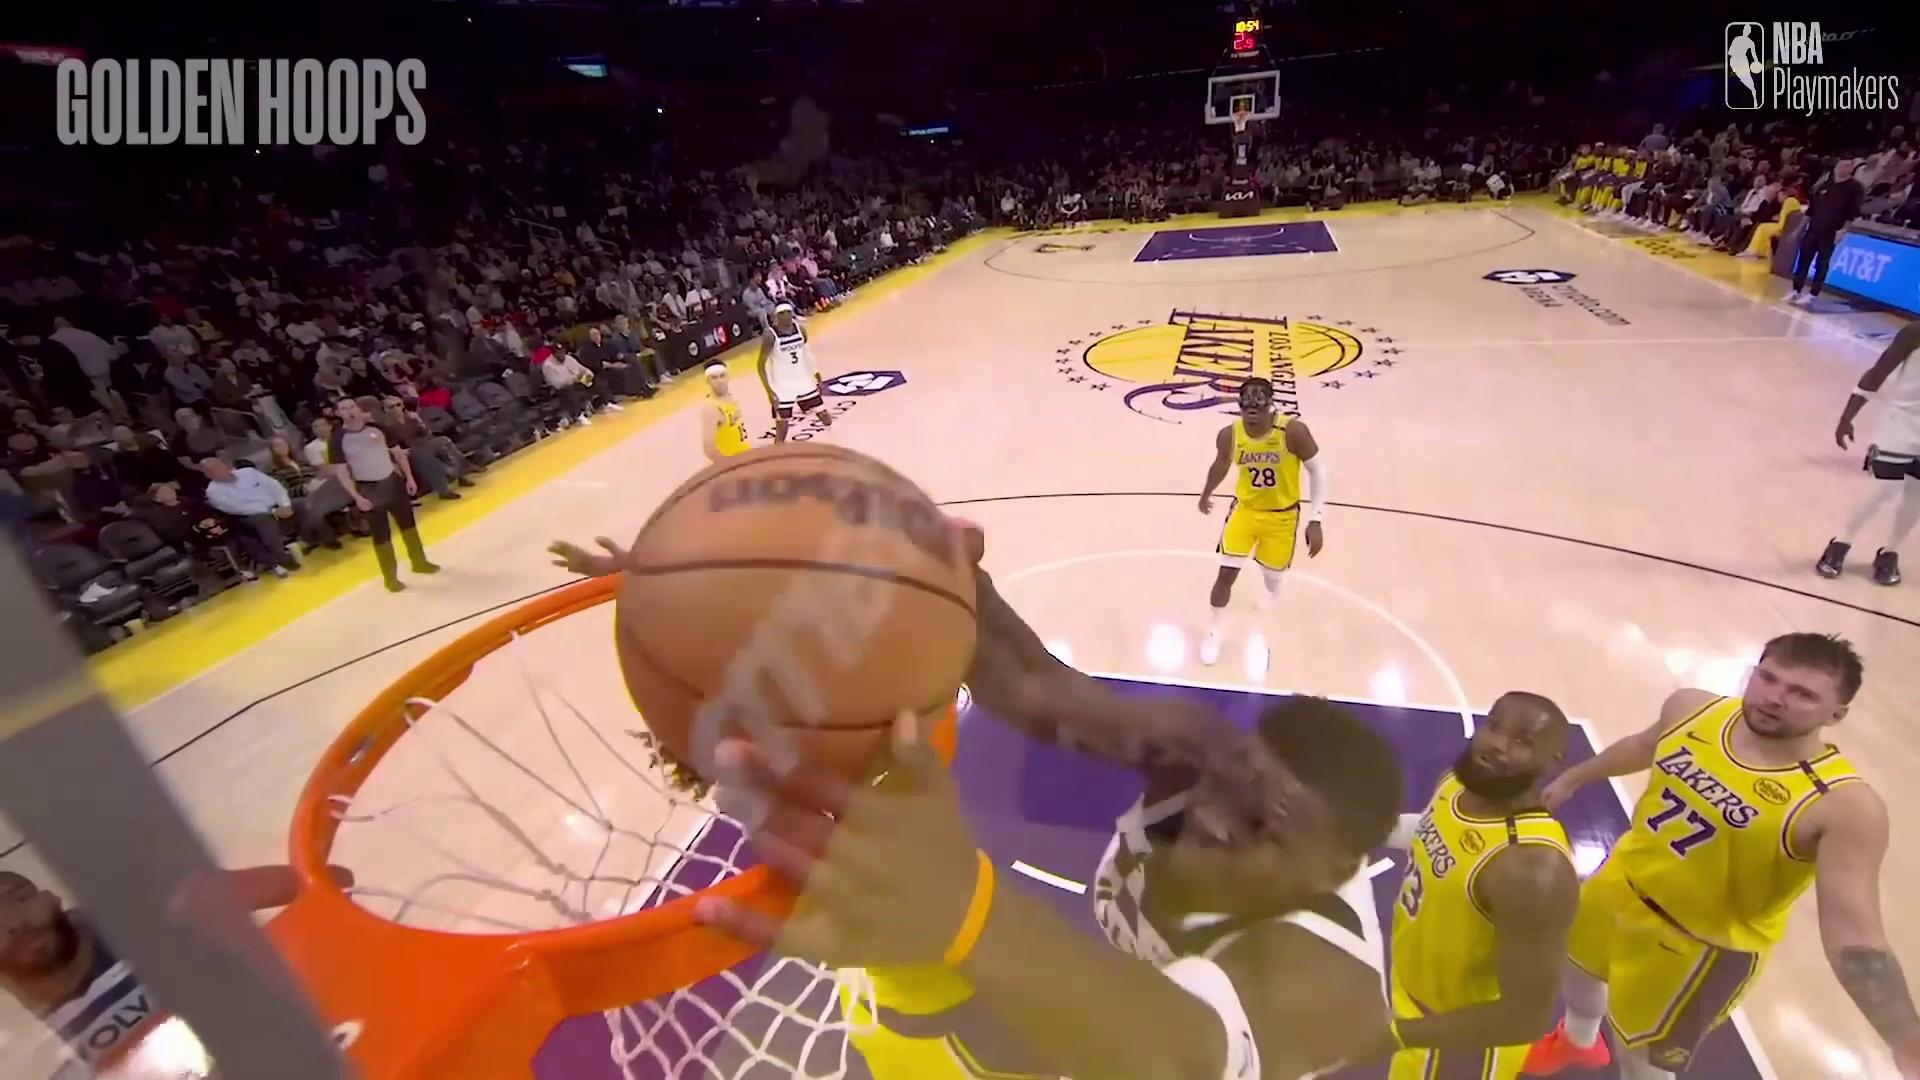ball: (607, 425, 984, 784)
hoop: (226, 616, 675, 1036), (1232, 104, 1250, 135)
